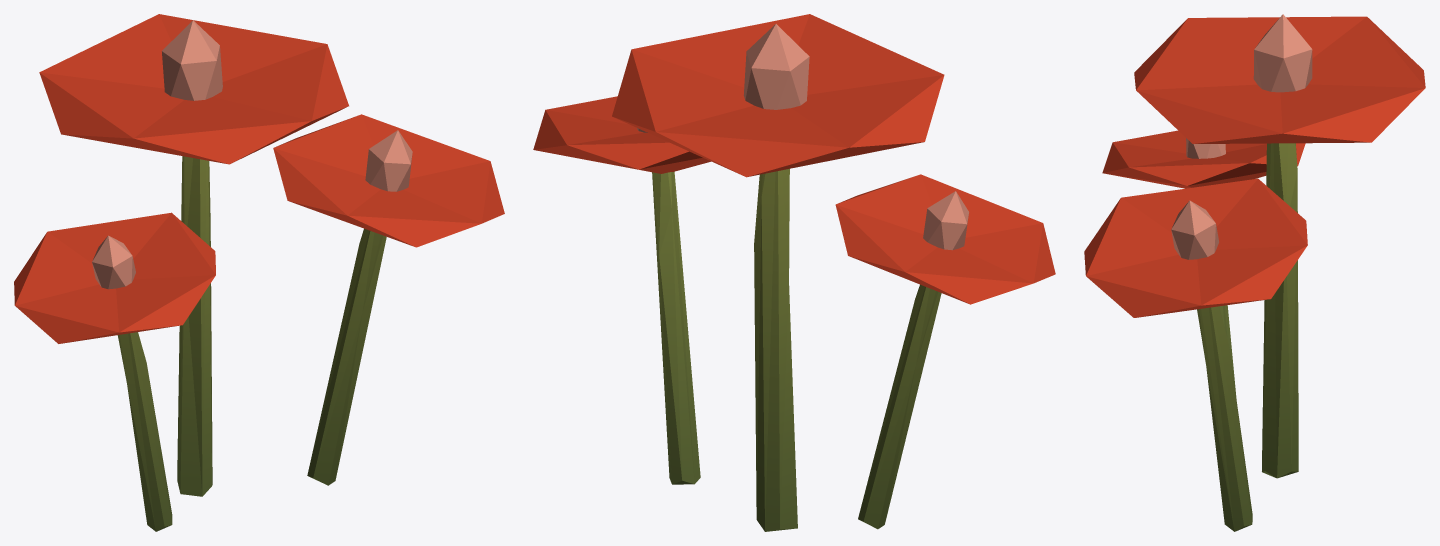
File: Summer_Flower_10.glb
The picture shows the model from 3 angles, left to right: view 1: azimuth 30°, elevation 25°; view 2: azimuth 150°, elevation 25°; view 3: azimuth 270°, elevation 25°; orthographic projection. The views are drawn at different scales.
Visible parts, largest first — view 1: Summer_Flower_10_LOD0; view 2: Summer_Flower_10_LOD0; view 3: Summer_Flower_10_LOD0.
Part boxes in pixels (x1=…): Summer_Flower_10_LOD0: x1=14, y1=14, x2=504, y2=531; Summer_Flower_10_LOD0: x1=533, y1=14, x2=1055, y2=531; Summer_Flower_10_LOD0: x1=1084, y1=14, x2=1425, y2=531.
Size of what is drawn, in the model's own units: 0.2353 by 0.2283 by 0.1529.
1 material, 1 textured.
